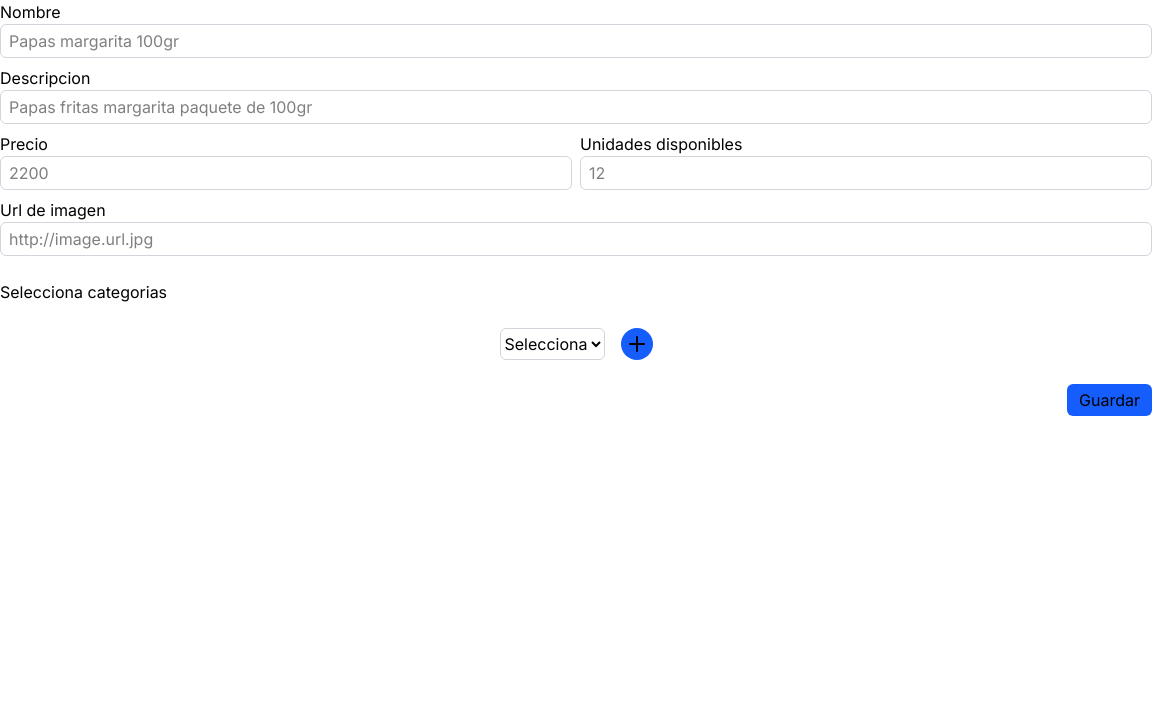
Create new product component › should appear success message in a dialog when save product
This screenshot has width=1152, height=720.
Type "Fries Potatoes" into the field with test id "input-name" at (576,41), box [0,24,1151,58]
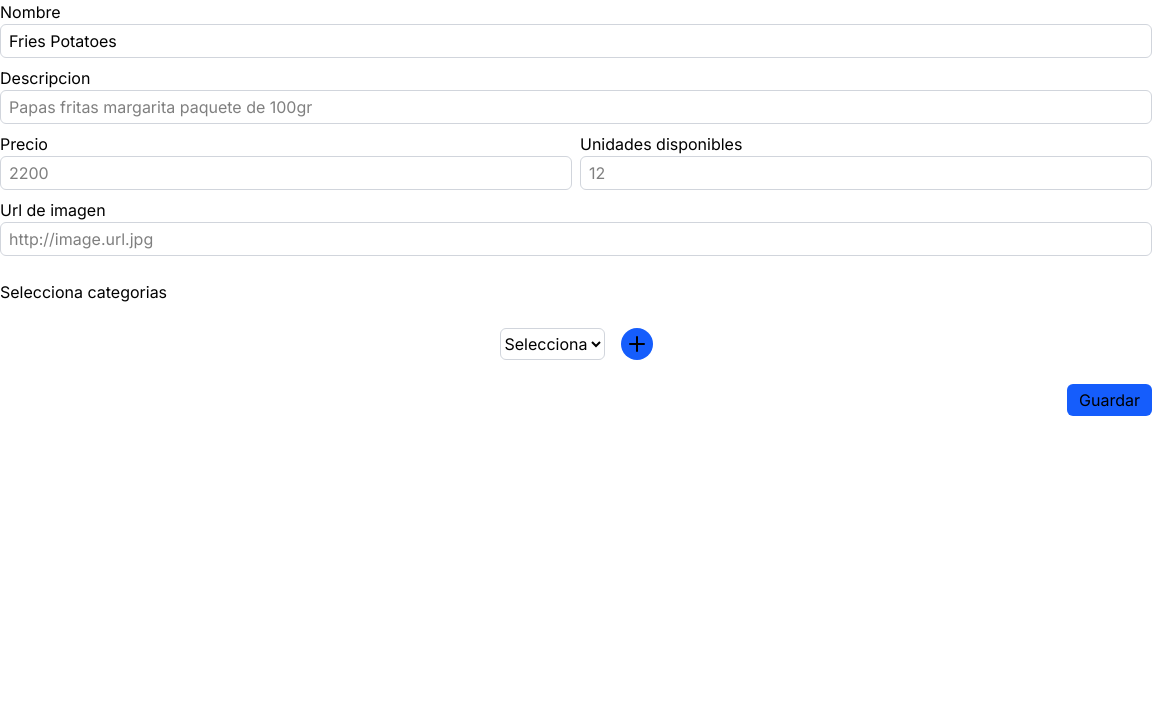
Type "21" into the field with test id "input-stock" at (866,173), box [580,156,1151,190]
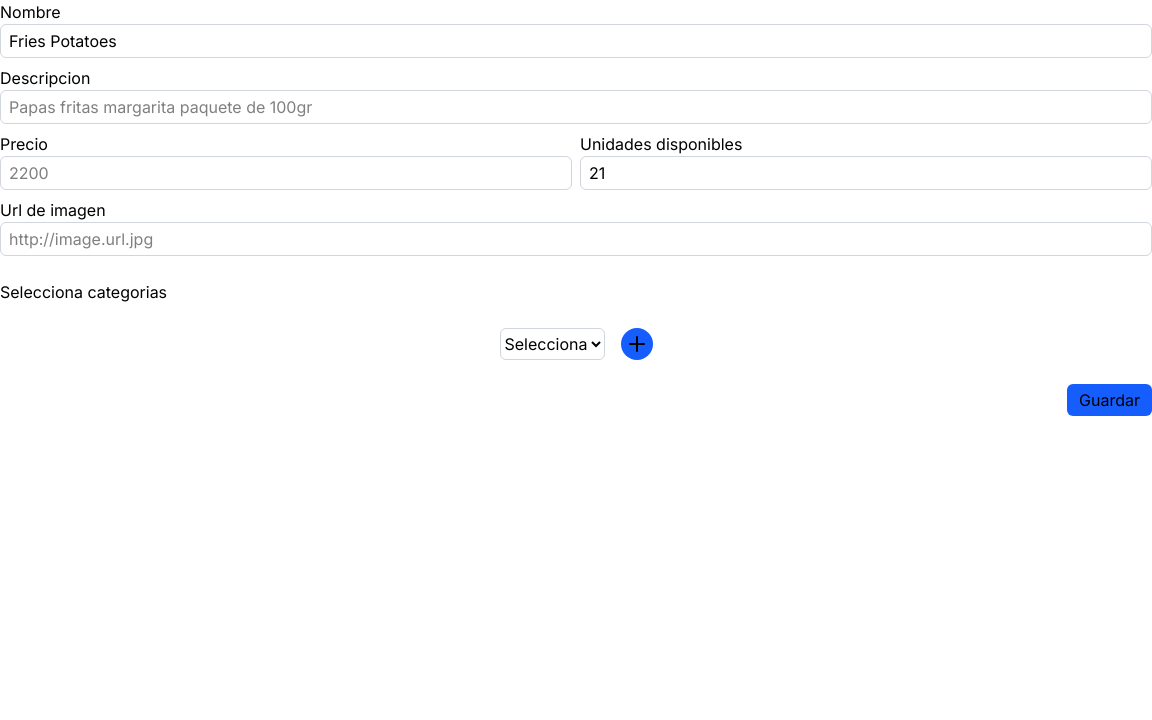
Type "2400" into the field with test id "input-price" at (286,173), box [0,156,572,190]
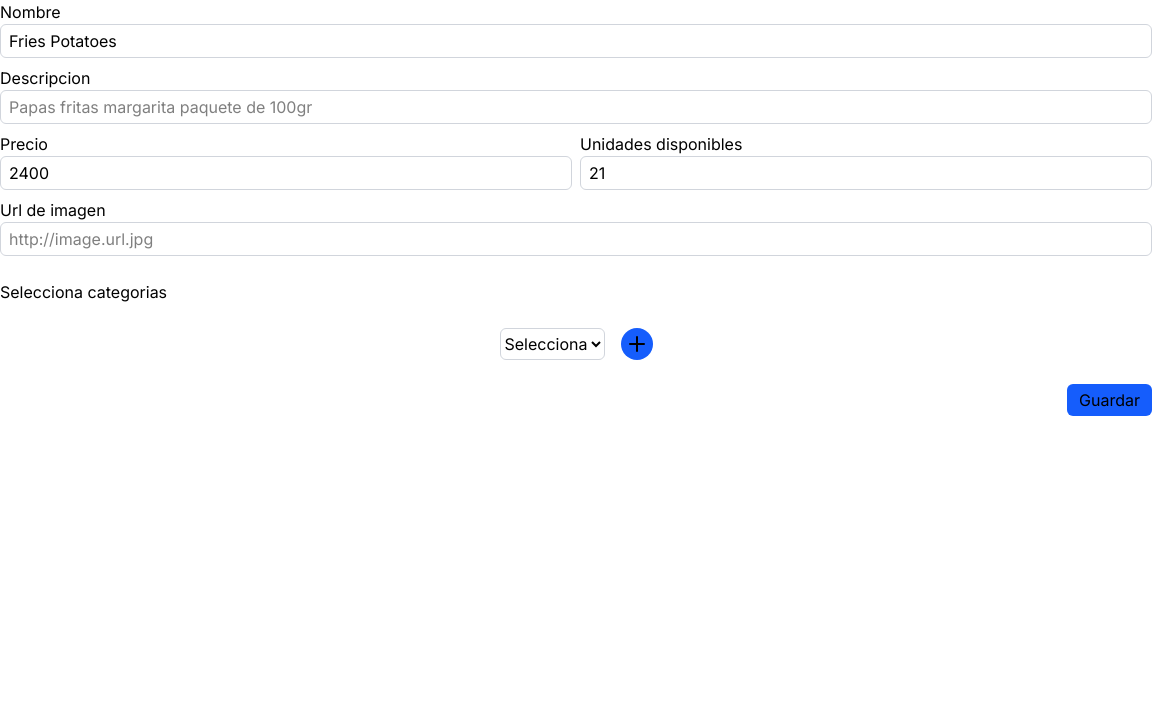
Type "fires potatoes with lemon flavor 1000gr" into the field with test id "input-description" at (576,107), box [0,90,1151,124]
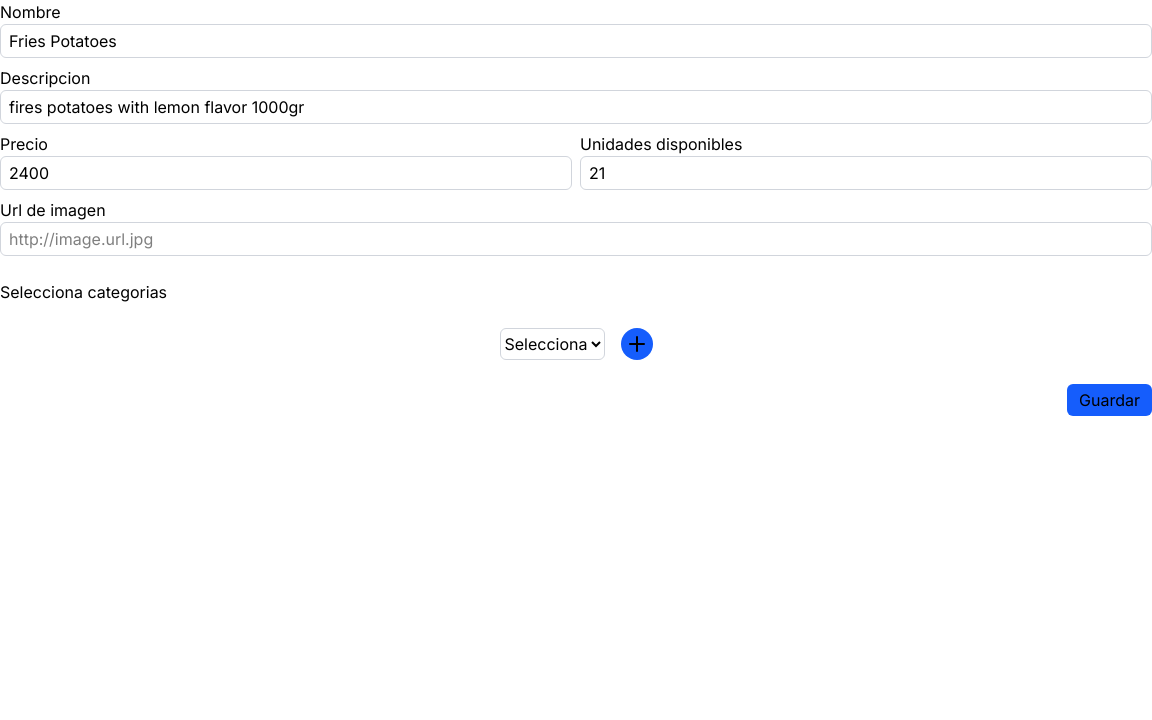
Submit the form with test id "form", box [0,0,1151,416]
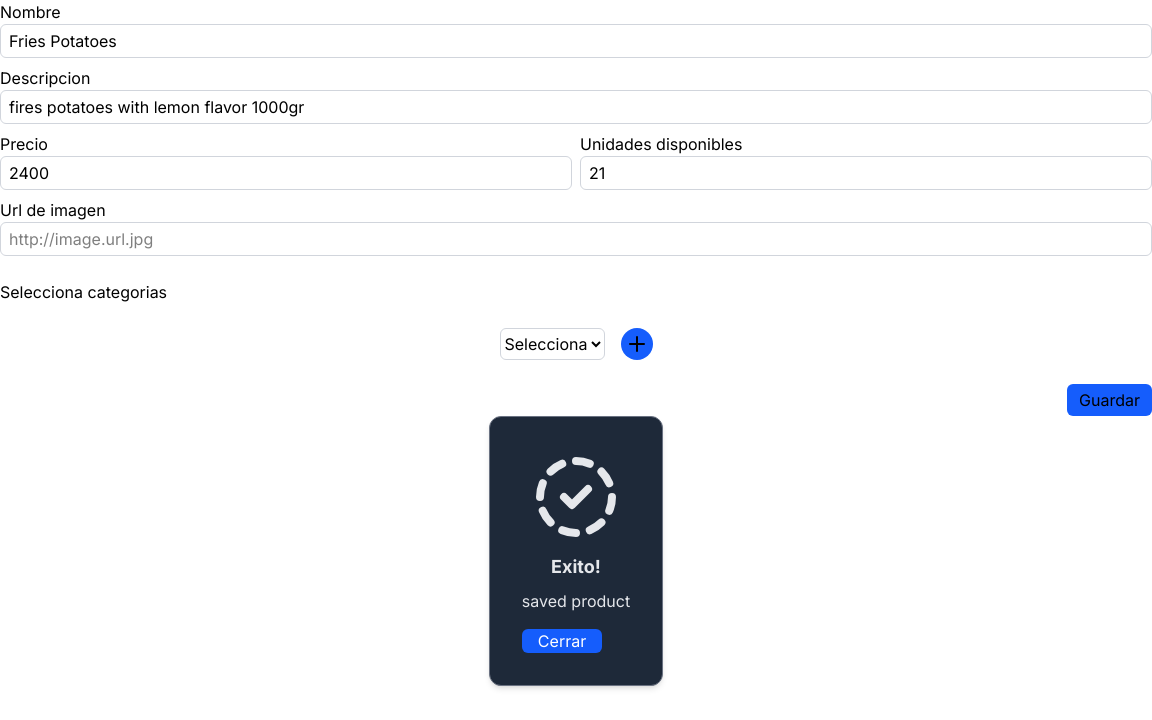
Now the dialog with test id "simple-dialog" is shown, box [489,416,663,686]
Now the text "saved product" is shown, box [522,589,630,613]
